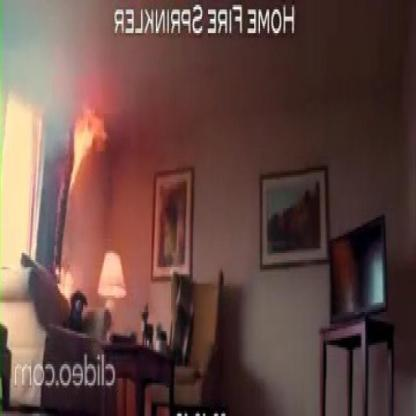Fire: (69, 82, 110, 196), (53, 260, 81, 300)
